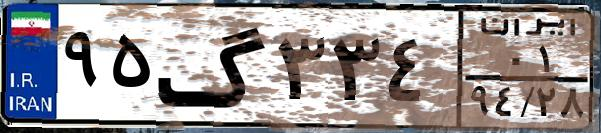0: (508, 27, 537, 80)
1: (537, 27, 568, 80)
2: (535, 70, 560, 125)
3: (270, 28, 330, 110), (330, 28, 385, 110)
4: (385, 28, 445, 110), (495, 70, 520, 125)
5: (110, 28, 156, 98)
8: (560, 70, 590, 125)
9: (57, 26, 110, 100), (470, 70, 495, 125)
گ: (156, 12, 270, 120)
